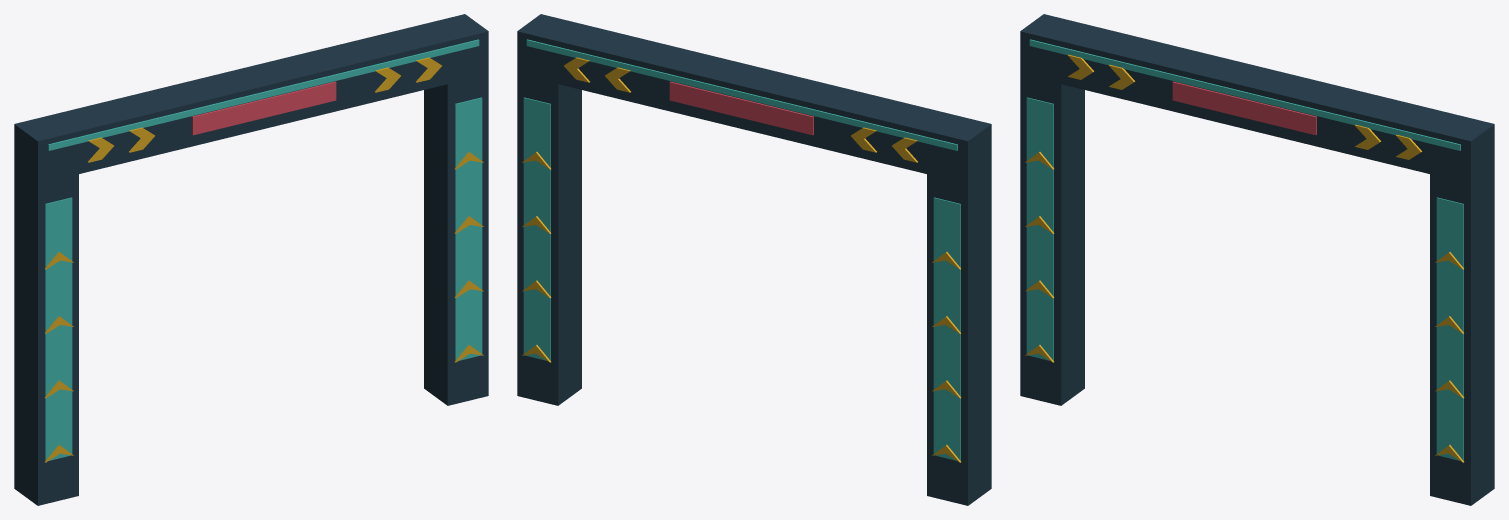
Rendered from jump-gate.glb.
The picture shows the model from 3 angles, left to right: view 1: azimuth 30°, elevation 25°; view 2: azimuth 150°, elevation 25°; view 3: azimuth 330°, elevation 25°; orthographic projection.
Visible parts, largest first — view 1: jump-gate; view 2: jump-gate; view 3: jump-gate.
Boxes of the visible parts, <box> form: jump-gate: <box>14,14,488,505</box>; jump-gate: <box>517,14,991,505</box>; jump-gate: <box>1020,14,1494,505</box>.
Size of the model in its own units: 22 by 17 by 2.3.
